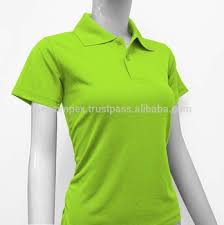C_polo shirt: (13, 18, 192, 225)
